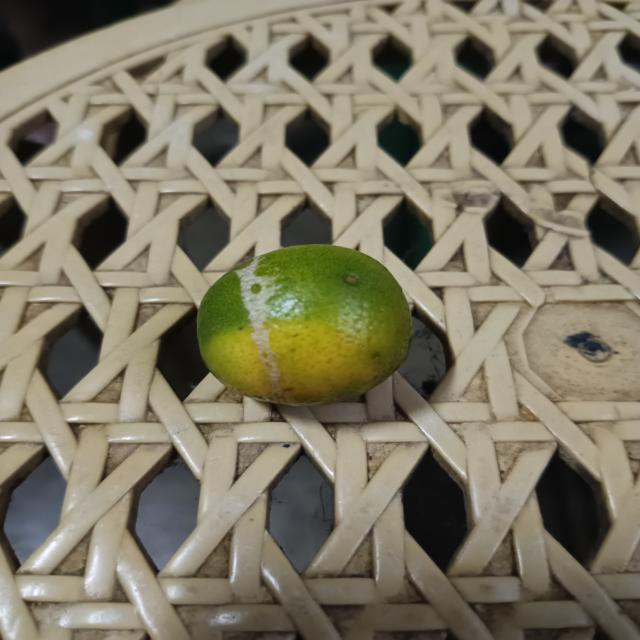thrips: (192, 239, 422, 411)
